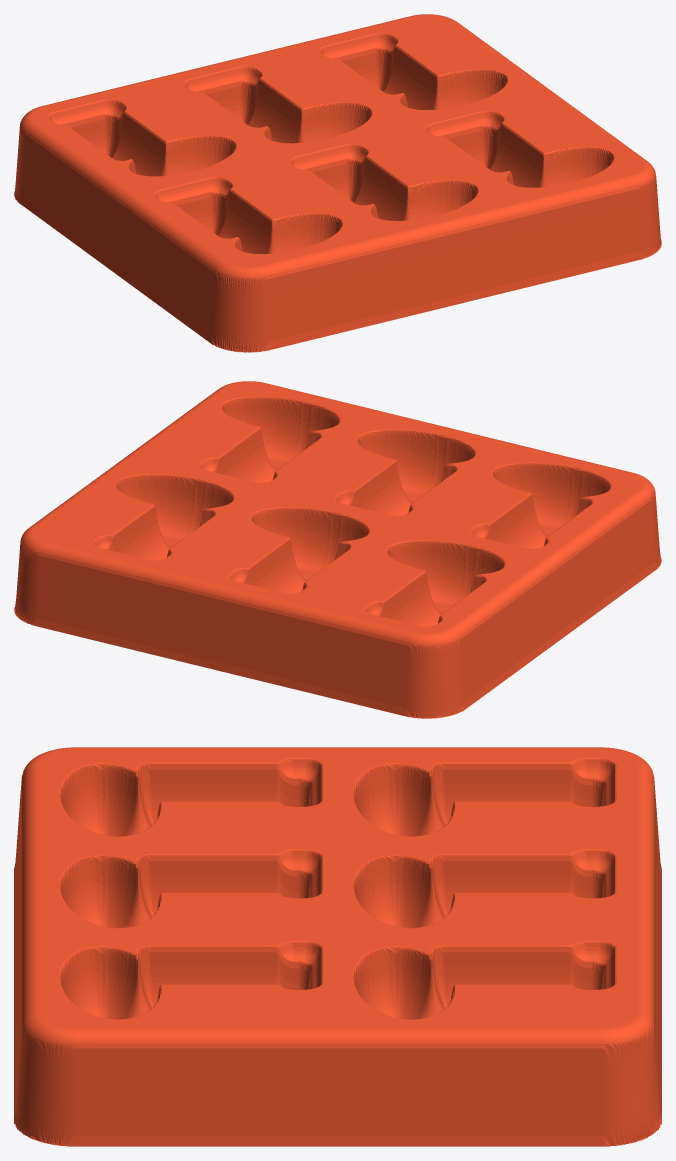
The model's file is mold.glb.
3 views of the same model, one above another, from view 1: azimuth 30°, elevation 25°; view 2: azimuth 150°, elevation 25°; view 3: azimuth 270°, elevation 25° (orthographic). The views are drawn at different scales.
Parts seen in each view (by area): view 1: geometry_0; view 2: geometry_0; view 3: geometry_0.
Part boxes in pixels (<box>): geometry_0: <box>14,14,661,352</box>; geometry_0: <box>14,381,661,718</box>; geometry_0: <box>14,747,661,1146</box>.
Size of the model in its own units: 0.1047 by 0.0175 by 0.0955.
